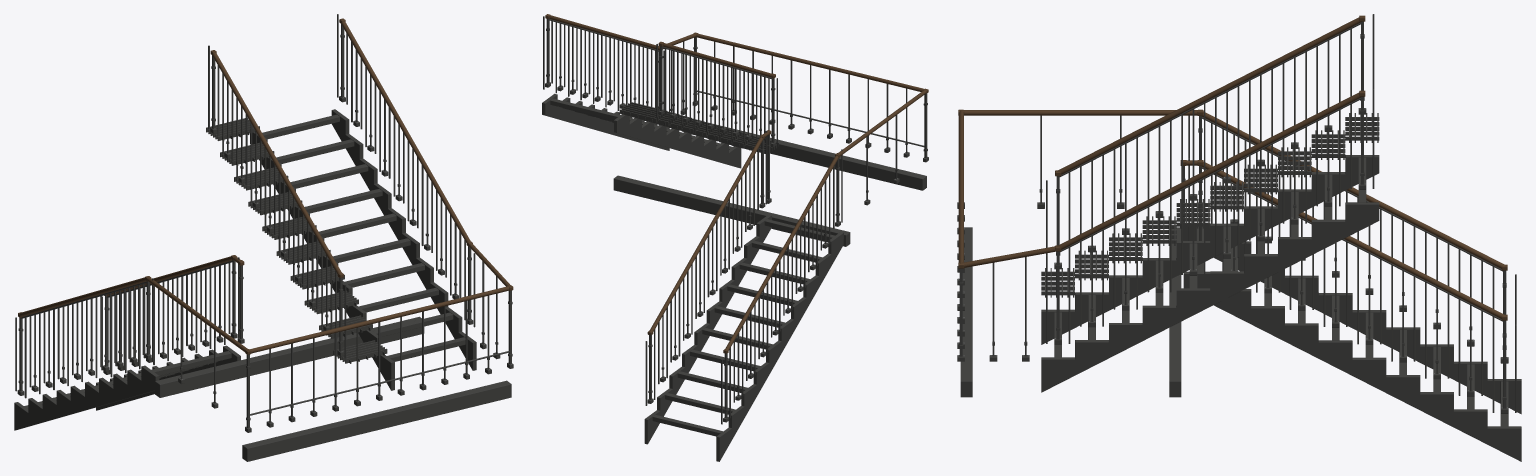
Rendered from stair_ironwork_court_lobby.glb.
3 renders of one model, left to right at view 1: azimuth 30°, elevation 25°; view 2: azimuth 150°, elevation 25°; view 3: azimuth 270°, elevation 25°, orthographic. The views are drawn at different scales.
Parts seen in each view (by area): view 1: StairStructure, Ironwork_cast_iron, Ironwork_wood_dark; view 2: Ironwork_cast_iron, StairStructure, Ironwork_wood_dark; view 3: StairStructure, Ironwork_cast_iron, Ironwork_wood_dark.
Part boxes in pixels (x1,y1,x2,y2): StairStructure: (14, 109, 511, 461); Ironwork_cast_iron: (15, 14, 513, 432); Ironwork_wood_dark: (18, 18, 513, 354); Ironwork_cast_iron: (543, 16, 928, 424); StairStructure: (542, 93, 926, 461); Ironwork_wood_dark: (545, 14, 928, 353); StairStructure: (960, 113, 1521, 461); Ironwork_cast_iron: (957, 14, 1516, 413); Ironwork_wood_dark: (958, 15, 1507, 320).
Size of the model in its own units: 3.1 by 4.42 by 4.76.
